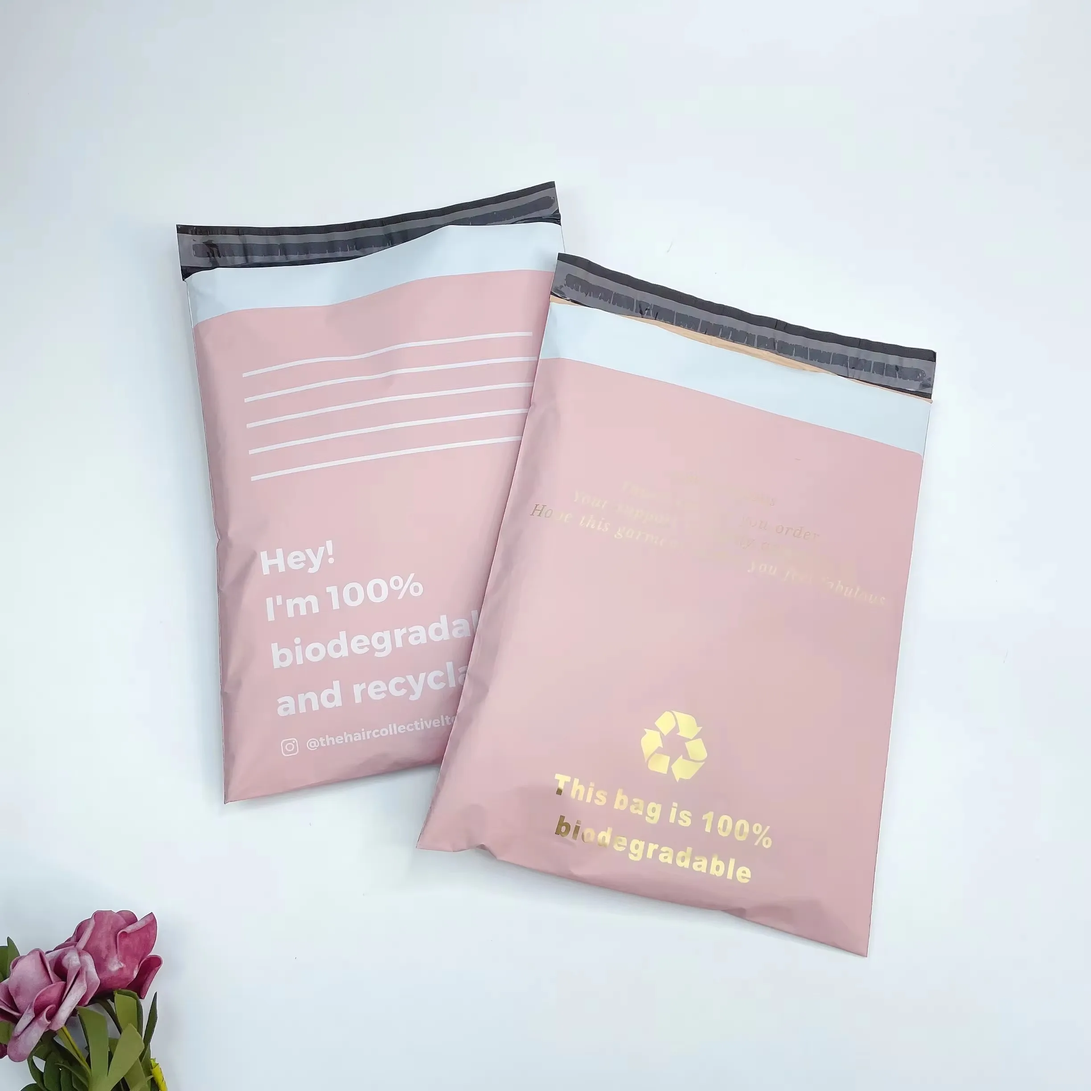Parcel: (179, 184, 932, 949)
